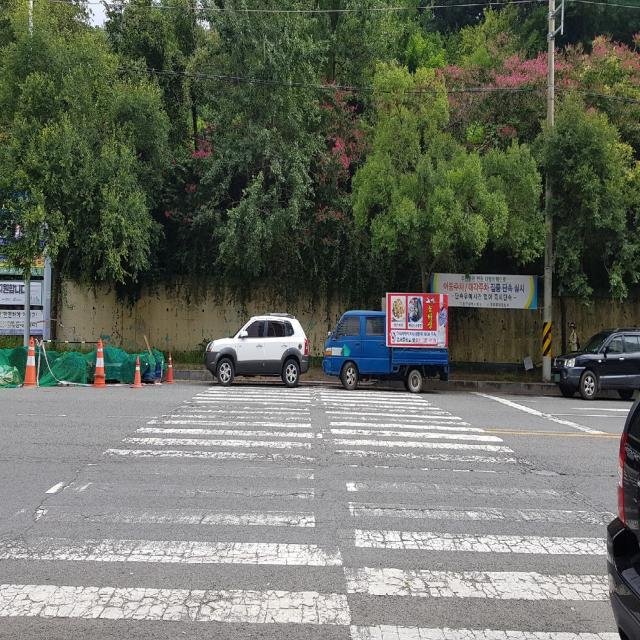횡단보도: (0, 380, 624, 640)
